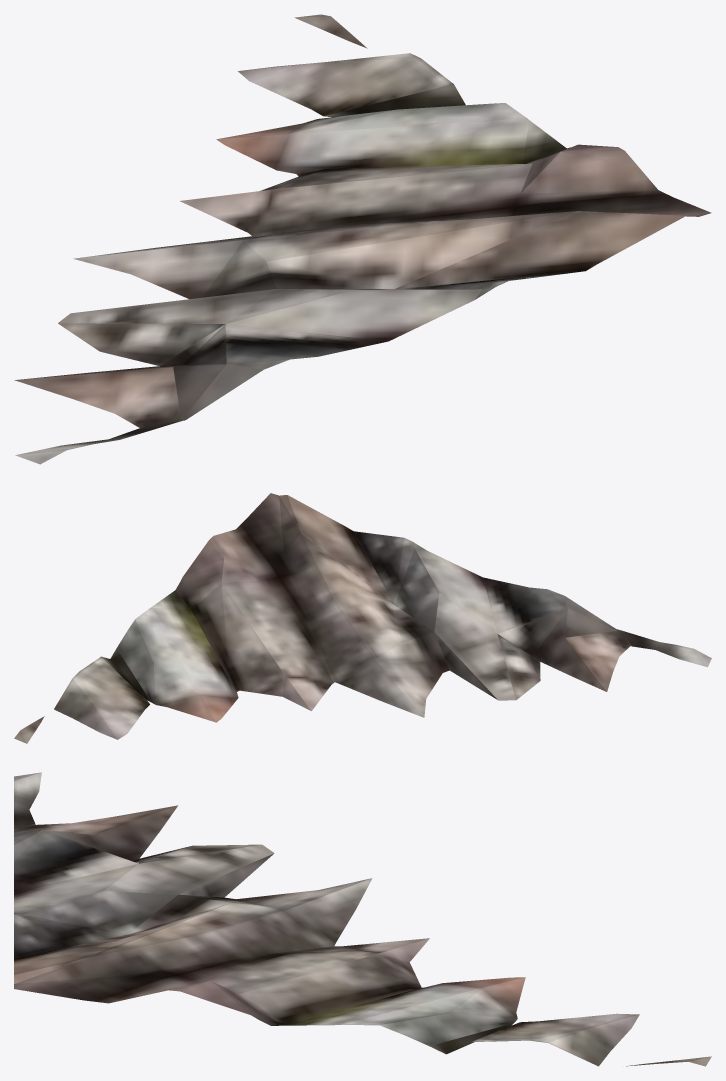
The picture shows the model from 3 angles, top to bottom: view 1: azimuth 30°, elevation 25°; view 2: azimuth 150°, elevation 25°; view 3: azimuth 270°, elevation 25°; orthographic projection. The views are drawn at different scales.
Bounding box in the file's own units: 1.03 × 0.1313 × 1.03.
Materials: 1 (1 with a texture image).
